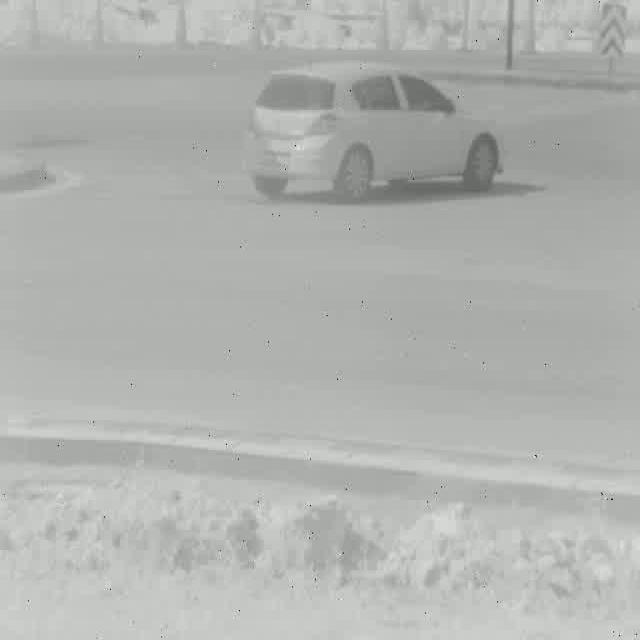Car: (244, 66, 502, 194)
